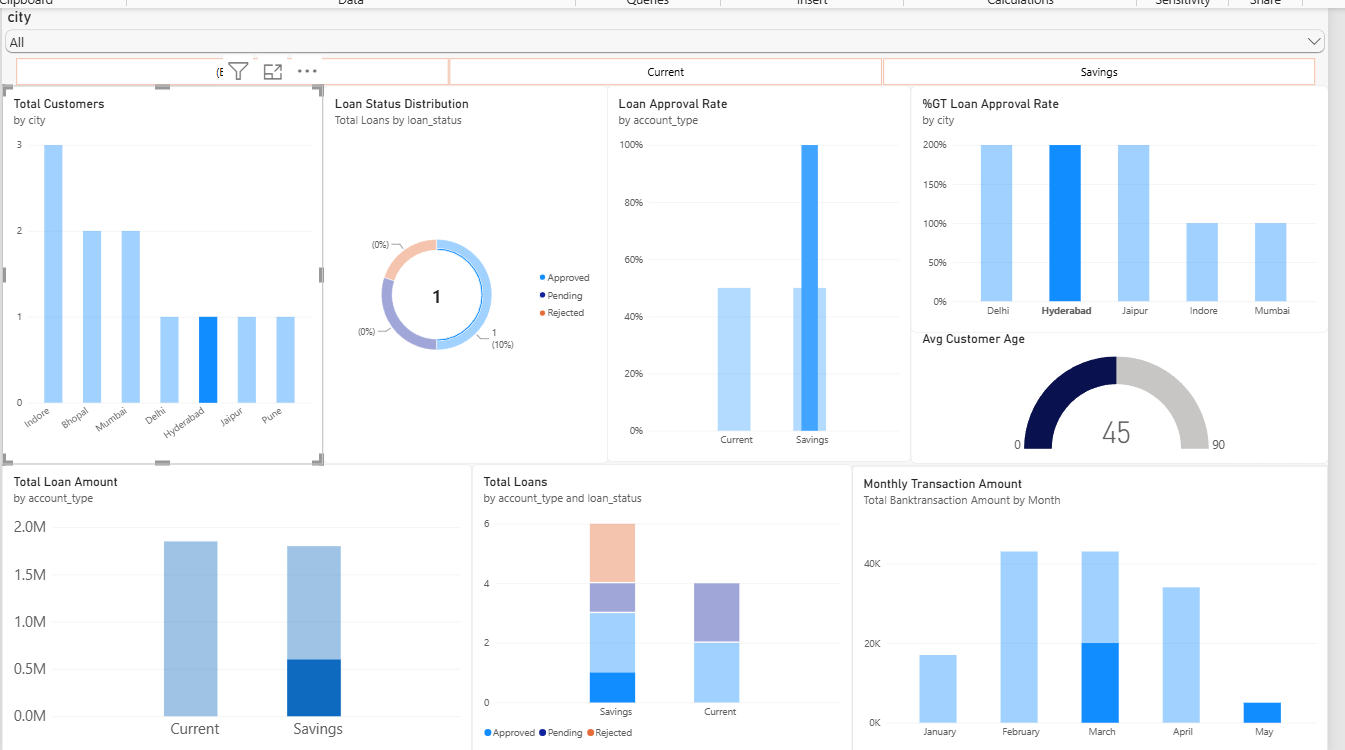

The page's visual inventory and layout, read from the dashboard file:
{"tool":"powerbi","page":{"name":"Page 2","canvas":[1920,1080],"ordinal":1},"visuals":[{"type":"columnChart","fields":{"Category":["Customers.city"],"Y":["Customers.Total Customers"]},"box":[0,112.5,465,547.5],"z":0},{"type":"donutChart","title":"Loan Status Distribution","fields":{"Category":["Loans.loan_status"],"Y":["Loans.Total Loans"]},"box":[465,112.5,412.5,547.5],"z":1000},{"type":"columnChart","fields":{"Category":["Accounts.account_type"],"Y":["Loans.Total Loan Amount"]},"box":[0,660,680,420],"z":2000},{"type":"lineStackedColumnComboChart","title":"Monthly Transaction Amount","fields":{"Category":["Banktransactions.transaction_date.Variation.Date Hierarchy.Month"],"Y":["Banktransactions.Total Banktransaction Amount"]},"box":[1230,662.5,690,417.5],"z":3000},{"type":"slicer","fields":{"Values":["Customers.city"]},"box":[0,0,1920,70],"z":4000},{"type":"columnChart","fields":{"Category":["Accounts.account_type"],"Series":["Loans.loan_status"],"Y":["Loans.Total Loans"]},"box":[680,660,550,420],"z":5000},{"type":"gauge","fields":{"Y":["Customers.Avg Customer Age"]},"box":[1315,452.5,605,207.5],"z":6000},{"type":"columnChart","fields":{"Category":["Customers.city"],"Y":["Loans.Loan Approval Rate"]},"box":[1315,112.5,605,357.5],"z":7000},{"type":"clusteredColumnChart","fields":{"Category":["Accounts.account_type"],"Y":["Loans.Loan Approval Rate"]},"box":[875,112.5,440,545],"z":8000},{"type":"slicer","fields":{"Values":["Accounts.account_type"]},"box":[0,70,1920,42.5],"z":9000}]}

Visuals, with their boxes on the page's 1920x1080 design canvas (x1, y1, x2, y2). These are canvas units, not pixel positions in the 1345x750 screenshot, which may show the page scaled, cropped or inside an application window:
columnChart - Customers.city x Customers.Total Customers: [left=0, top=112, right=465, bottom=660]
"Loan Status Distribution" donutChart: [left=465, top=112, right=878, bottom=660]
columnChart - Accounts.account_type x Loans.Total Loan Amount: [left=0, top=660, right=680, bottom=1080]
"Monthly Transaction Amount" lineStackedColumnComboChart: [left=1230, top=662, right=1920, bottom=1080]
slicer - Customers.city: [left=0, top=0, right=1920, bottom=70]
columnChart - Accounts.account_type x Loans.loan_status: [left=680, top=660, right=1230, bottom=1080]
gauge - Customers.Avg Customer Age: [left=1315, top=452, right=1920, bottom=660]
columnChart - Customers.city x Loans.Loan Approval Rate: [left=1315, top=112, right=1920, bottom=470]
clusteredColumnChart - Accounts.account_type x Loans.Loan Approval Rate: [left=875, top=112, right=1315, bottom=658]
slicer - Accounts.account_type: [left=0, top=70, right=1920, bottom=112]
